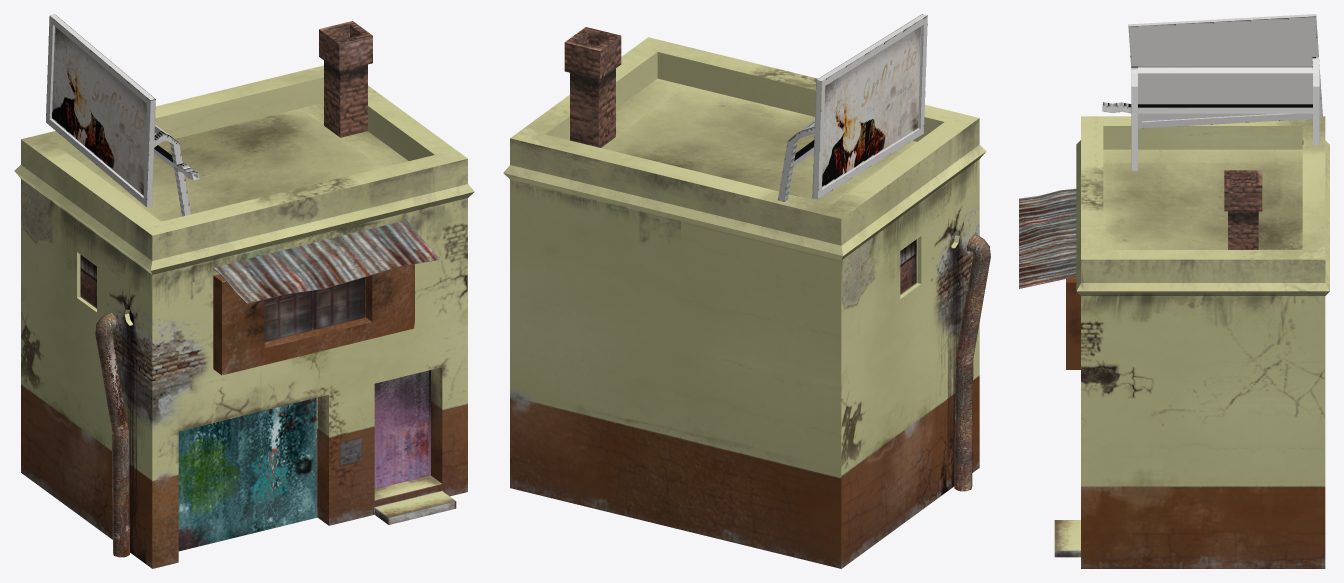
File: building.obj
3 views of the same model, side by side, from view 1: azimuth 30°, elevation 25°; view 2: azimuth 150°, elevation 25°; view 3: azimuth 270°, elevation 25° (orthographic). The views are drawn at different scales.
Parts seen in each view (by area): view 1: casa_02_-_Default_0; view 2: casa_02_-_Default_0; view 3: casa_02_-_Default_0.
Part boxes in pixels (x1,y1,x2,y2): casa_02_-_Default_0: (14,14,474,568); casa_02_-_Default_0: (503,14,990,568); casa_02_-_Default_0: (1019,14,1329,568).
Bounding box in the file's own units: 101 × 124 × 82.65.
Materials: 1 (1 with a texture image).
